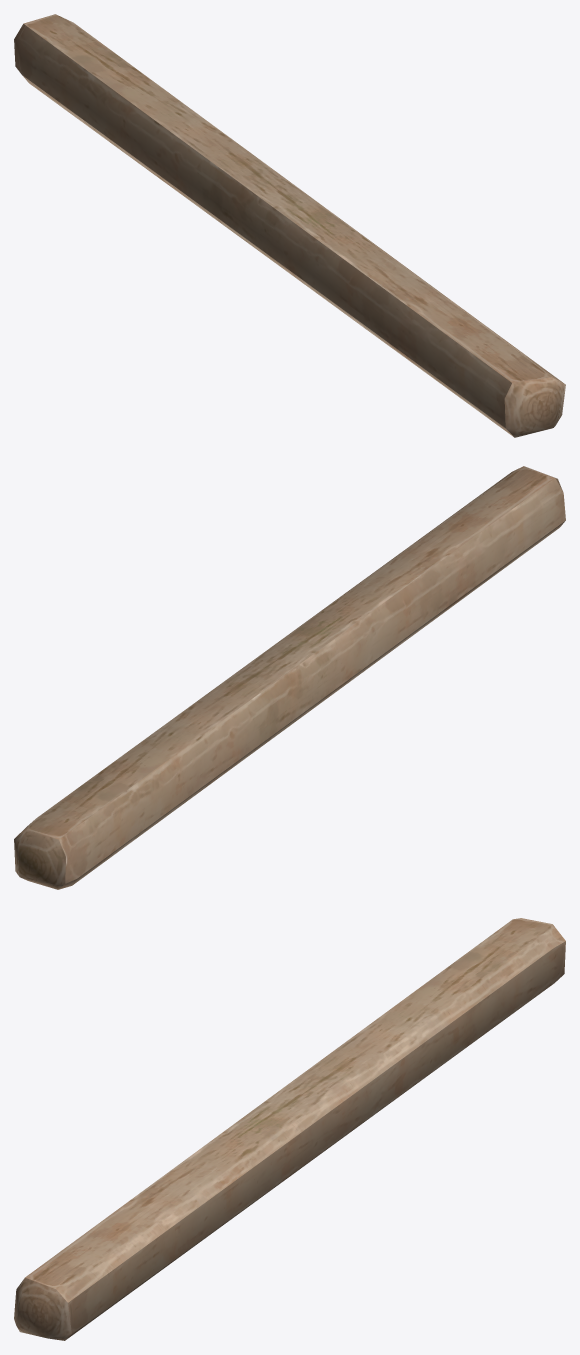
Rendered from BeamLong.fbx.
3 views of the same model, one above another, from view 1: azimuth 30°, elevation 25°; view 2: azimuth 150°, elevation 25°; view 3: azimuth 330°, elevation 25° (orthographic).
Parts seen in each view (by area): view 1: BeamLong; view 2: BeamLong; view 3: BeamLong.
Part boxes in pixels (<box>): BeamLong: <box>14,14,565,437</box>; BeamLong: <box>14,466,565,889</box>; BeamLong: <box>14,918,565,1340</box>.
Size of the model in its own units: 0.1251 by 0.1136 by 1.9.
